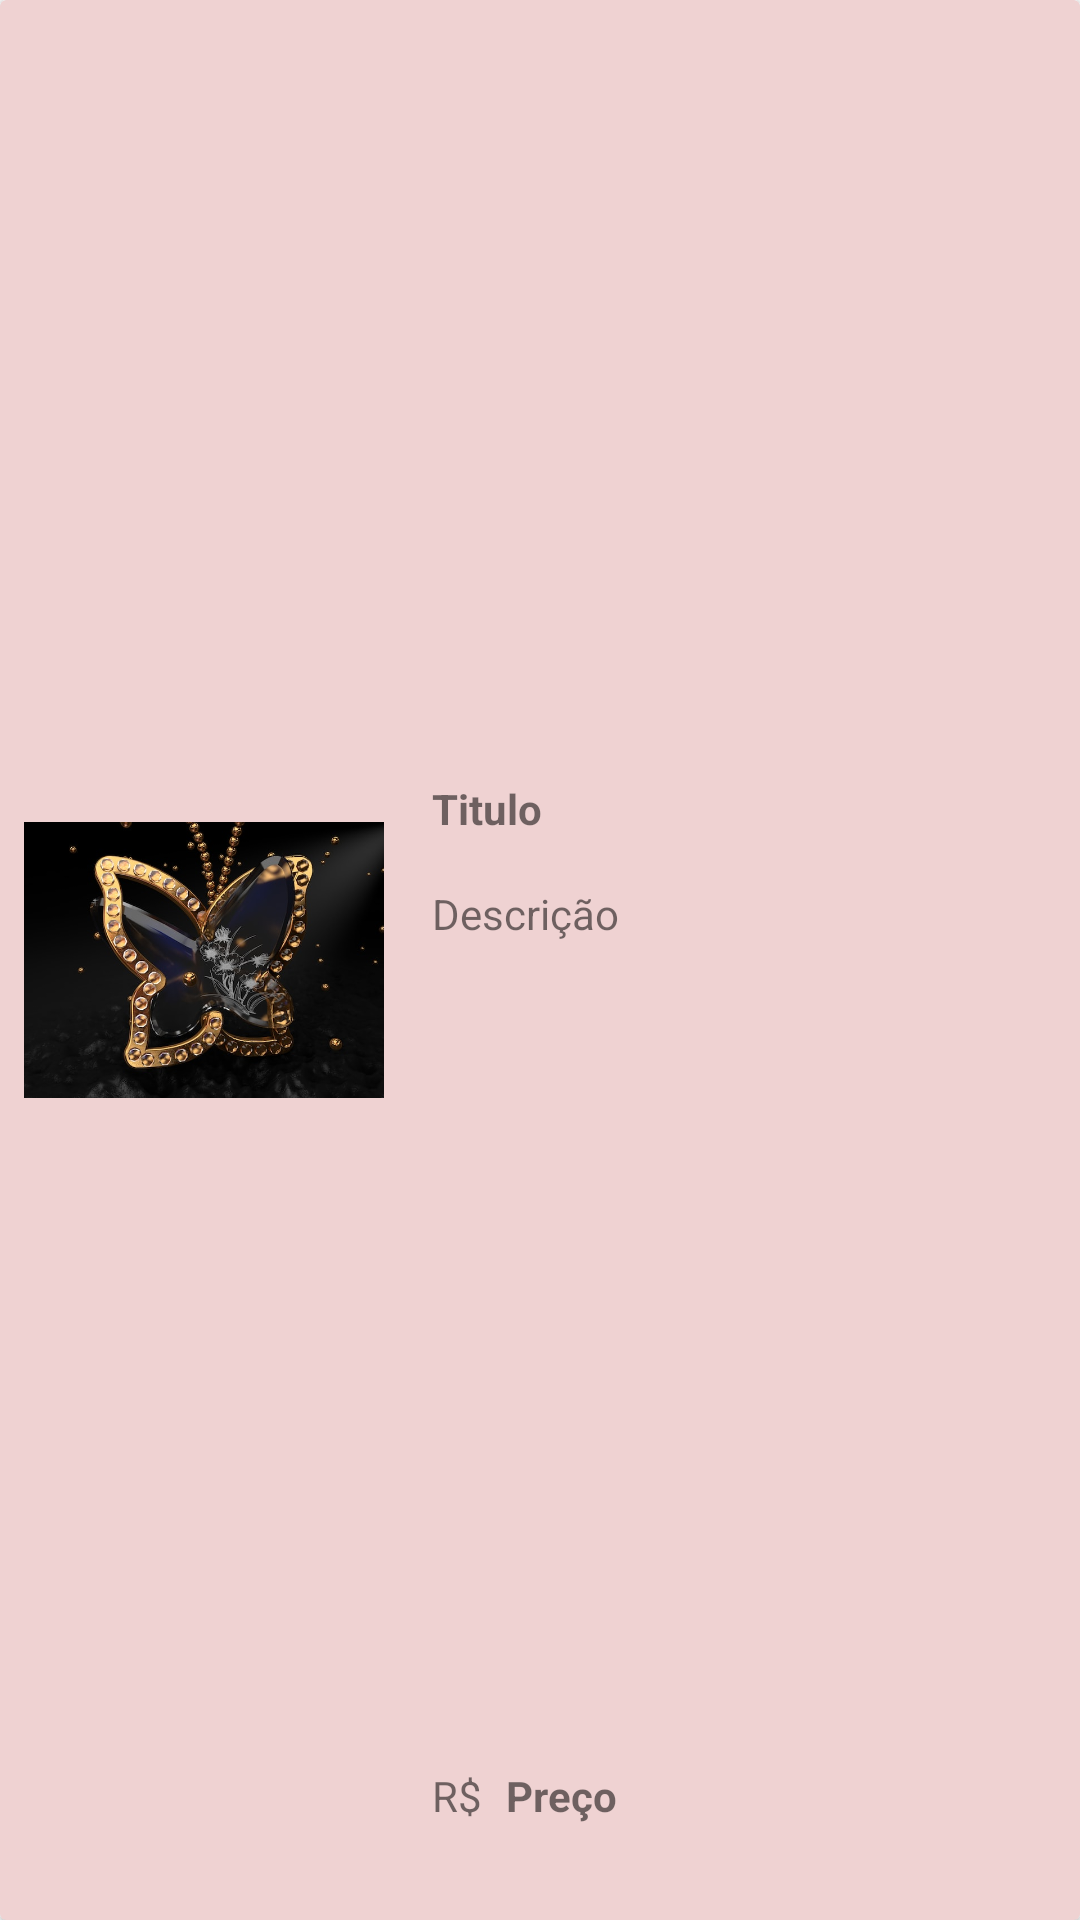

Where to tap for icons on this 1080 × 1920 app screen, as (x=x, y=y):
colar borboleta: (x=204, y=960)
